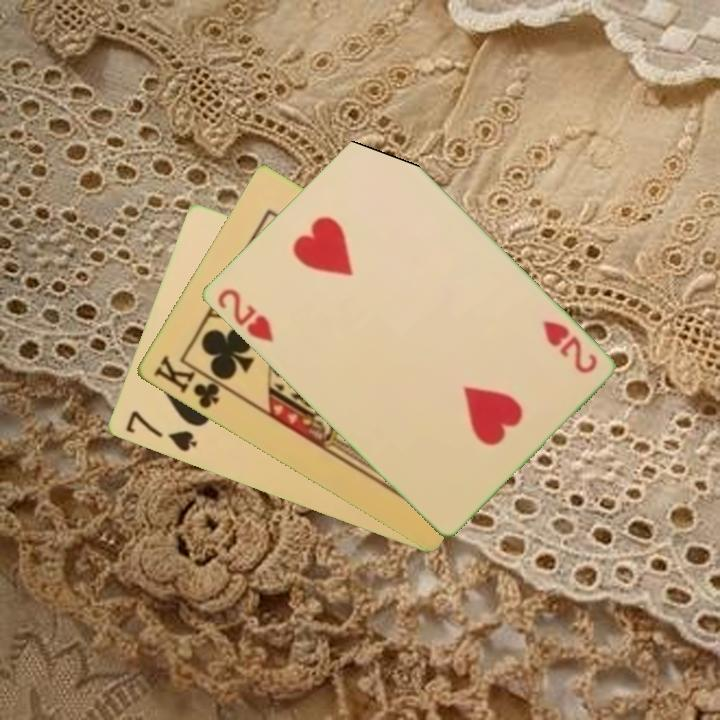2h: (213, 284, 277, 345), (539, 317, 600, 377)
7s: (121, 407, 200, 455)
Kc: (149, 352, 231, 412)
